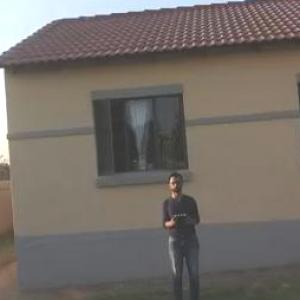follow: (158, 162, 210, 299)
